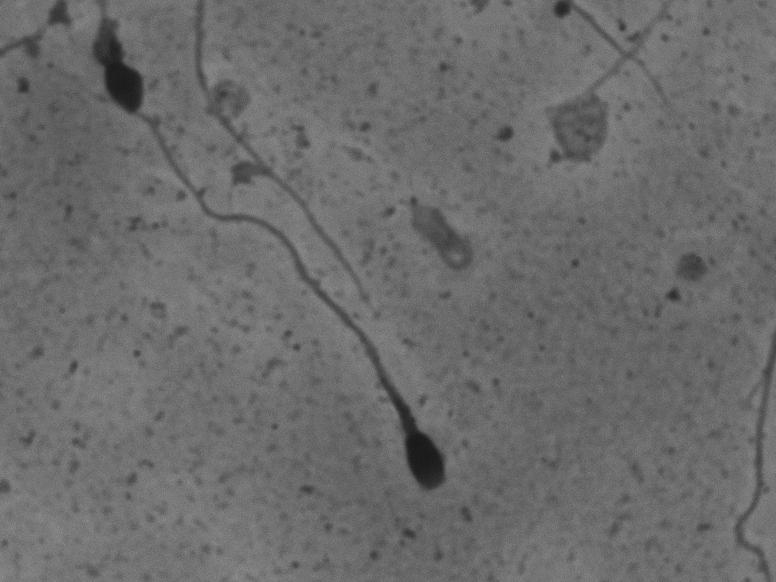Normal: (121, 110, 469, 509)
